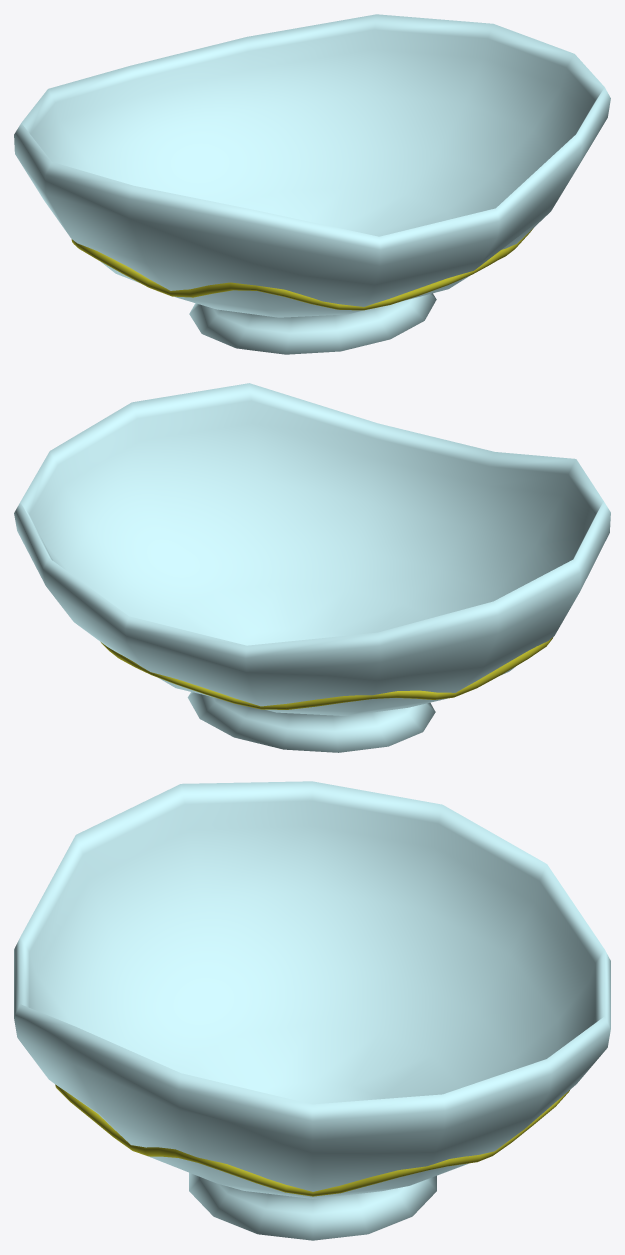
File: Props_Bowl01.fbx
3 renders of one model, top to bottom at view 1: azimuth 30°, elevation 25°; view 2: azimuth 150°, elevation 25°; view 3: azimuth 270°, elevation 25°, orthographic. The views are drawn at different scales.
Parts seen in each view (by area): view 1: Bowl; view 2: Bowl; view 3: Bowl.
Part boxes in pixels (box(x1,y1,x2,y2)): Bowl: box(14, 14, 610, 354); Bowl: box(14, 383, 610, 752); Bowl: box(14, 781, 610, 1240).
Bounding box in the file's own units: 0.595 × 0.489 × 0.2332.
